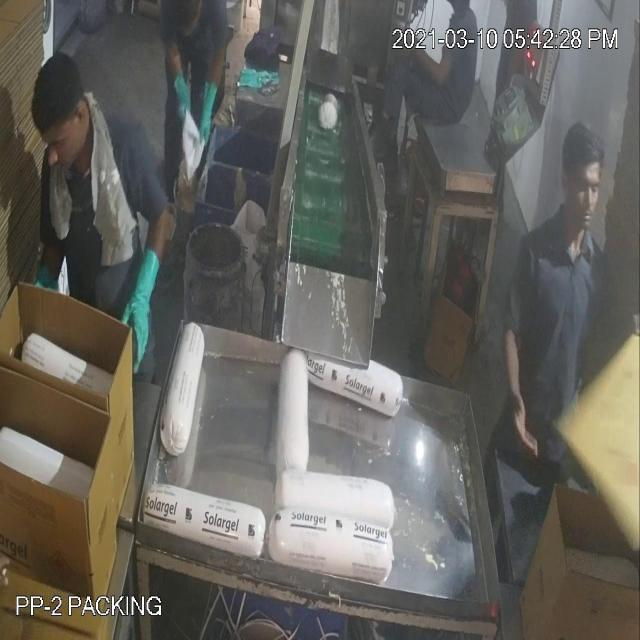gloves: (119, 192, 163, 404)
no-gloves: (491, 298, 555, 492), (412, 37, 464, 98)
